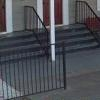stairs: (1, 31, 51, 59), (55, 25, 96, 55)
